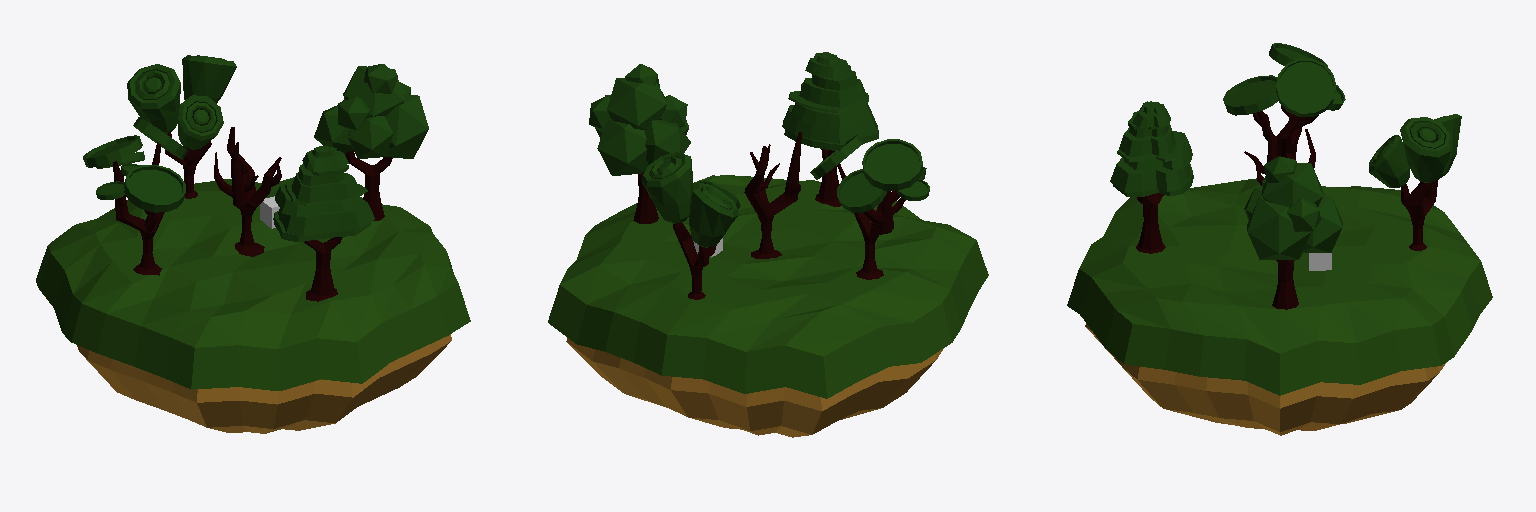
The model's file is trees.obj.
The picture shows the model from 3 angles: view 1: azimuth 30°, elevation 25°; view 2: azimuth 150°, elevation 25°; view 3: azimuth 270°, elevation 25°; orthographic projection.
Visible parts, largest first — view 1: Plane.003_Material.004, Plane.005_Material.003, Icosphere.001_Material.002, Plane.001_Material.002, Cylinder.003_Material.002, Cylinder.006_Material.002, Cylinder.004_Material.001, Cylinder.007_Material.001, Plane.002_Material.001, Icosphere.002_Material.001, Cylinder.002_Material.001; view 2: Plane.003_Material.004, Plane.005_Material.003, Icosphere.001_Material.002, Plane.001_Material.002, Cylinder.003_Material.002, Cylinder.006_Material.002, Cylinder.004_Material.001, Cylinder.007_Material.001, Cylinder.002_Material.001, Plane.002_Material.001, Icosphere.002_Material.001; view 3: Plane.003_Material.004, Plane.005_Material.003, Icosphere.001_Material.002, Plane.001_Material.002, Cylinder.006_Material.002, Cylinder.003_Material.002, Cylinder.002_Material.001, Plane.002_Material.001, Cylinder.007_Material.001, Icosphere.002_Material.001, Cylinder.004_Material.001.
Part boxes in pixels (bbox=[...]): Plane.003_Material.004: bbox=[36, 177, 470, 390]; Plane.005_Material.003: bbox=[77, 334, 451, 433]; Icosphere.001_Material.002: bbox=[314, 64, 428, 158]; Plane.001_Material.002: bbox=[273, 146, 374, 242]; Cylinder.003_Material.002: bbox=[127, 55, 236, 149]; Cylinder.006_Material.002: bbox=[83, 117, 188, 212]; Cylinder.004_Material.001: bbox=[214, 127, 281, 256]; Cylinder.007_Material.001: bbox=[113, 142, 164, 275]; Plane.002_Material.001: bbox=[304, 237, 342, 301]; Icosphere.002_Material.001: bbox=[345, 150, 392, 220]; Cylinder.002_Material.001: bbox=[165, 132, 211, 198]; Plane.003_Material.004: bbox=[548, 175, 988, 398]; Plane.005_Material.003: bbox=[566, 338, 943, 437]; Icosphere.001_Material.002: bbox=[589, 64, 690, 175]; Plane.001_Material.002: bbox=[782, 52, 878, 150]; Cylinder.003_Material.002: bbox=[641, 152, 740, 247]; Cylinder.006_Material.002: bbox=[810, 135, 929, 212]; Cylinder.004_Material.001: bbox=[744, 132, 801, 258]; Cylinder.007_Material.001: bbox=[837, 163, 905, 279]; Cylinder.002_Material.001: bbox=[673, 222, 715, 299]; Plane.002_Material.001: bbox=[815, 149, 841, 206]; Icosphere.002_Material.001: bbox=[633, 173, 658, 223]; Plane.003_Material.004: bbox=[1067, 178, 1492, 395]; Plane.005_Material.003: bbox=[1085, 323, 1446, 435]; Icosphere.001_Material.002: bbox=[1244, 156, 1342, 259]; Plane.001_Material.002: bbox=[1110, 101, 1193, 196]; Cylinder.006_Material.002: bbox=[1223, 43, 1345, 116]; Cylinder.003_Material.002: bbox=[1369, 114, 1461, 187]; Cylinder.002_Material.001: bbox=[1401, 180, 1437, 250]; Plane.002_Material.001: bbox=[1136, 193, 1165, 253]; Cylinder.007_Material.001: bbox=[1253, 105, 1318, 156]; Icosphere.002_Material.001: bbox=[1272, 260, 1298, 309]; Cylinder.004_Material.001: bbox=[1244, 118, 1315, 185].
Size of the model in its own units: 37.38 by 31.27 by 37.38.